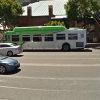Bus: (5, 22, 89, 55)
